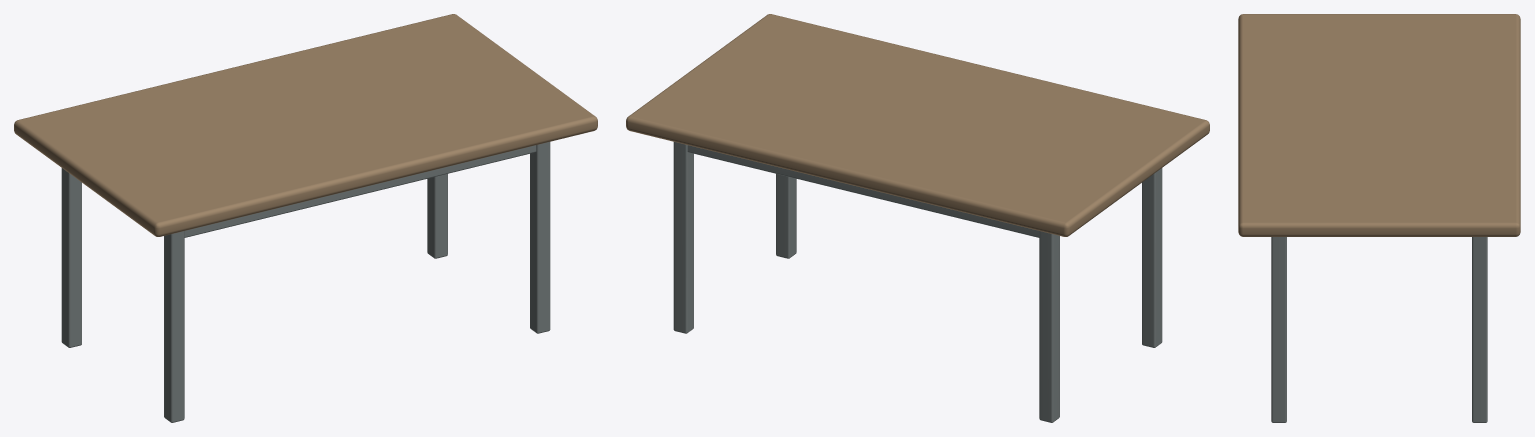
The model's file is StationDiningTable.fbx.
3 renders of one model, left to right at view 1: azimuth 30°, elevation 25°; view 2: azimuth 150°, elevation 25°; view 3: azimuth 270°, elevation 25°, orthographic. The views are drawn at different scales.
Visible parts, largest first — view 1: StationDiningTable_Timber, StationDiningTable_Steel; view 2: StationDiningTable_Timber, StationDiningTable_Steel; view 3: StationDiningTable_Timber, StationDiningTable_Steel.
Part boxes in pixels (x1,y1,x2,y2): StationDiningTable_Timber: (14, 14, 597, 236); StationDiningTable_Steel: (61, 142, 550, 422); StationDiningTable_Timber: (626, 14, 1209, 236); StationDiningTable_Steel: (673, 142, 1162, 422); StationDiningTable_Timber: (1238, 14, 1520, 236); StationDiningTable_Steel: (1271, 237, 1487, 422).
Size of the model in its own units: 160 by 75.5 by 90.
